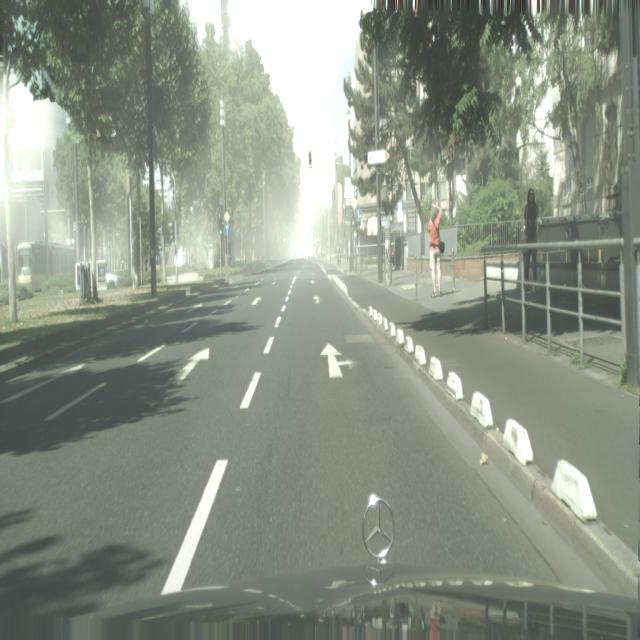person: (523, 188, 539, 284), (428, 203, 443, 298)
